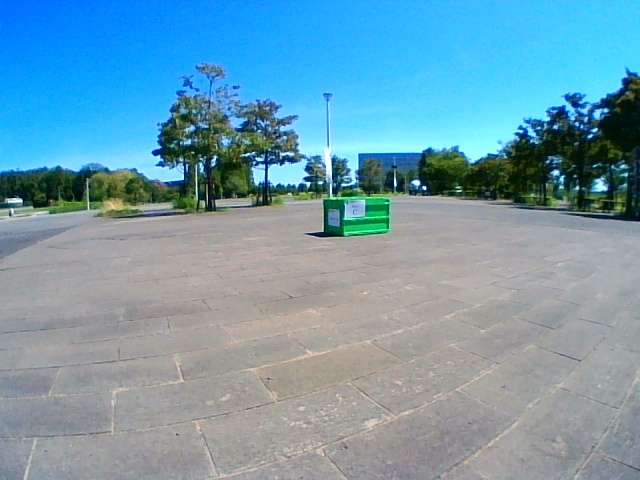green_box: (323, 197, 390, 236)
tag: (344, 200, 364, 218)
